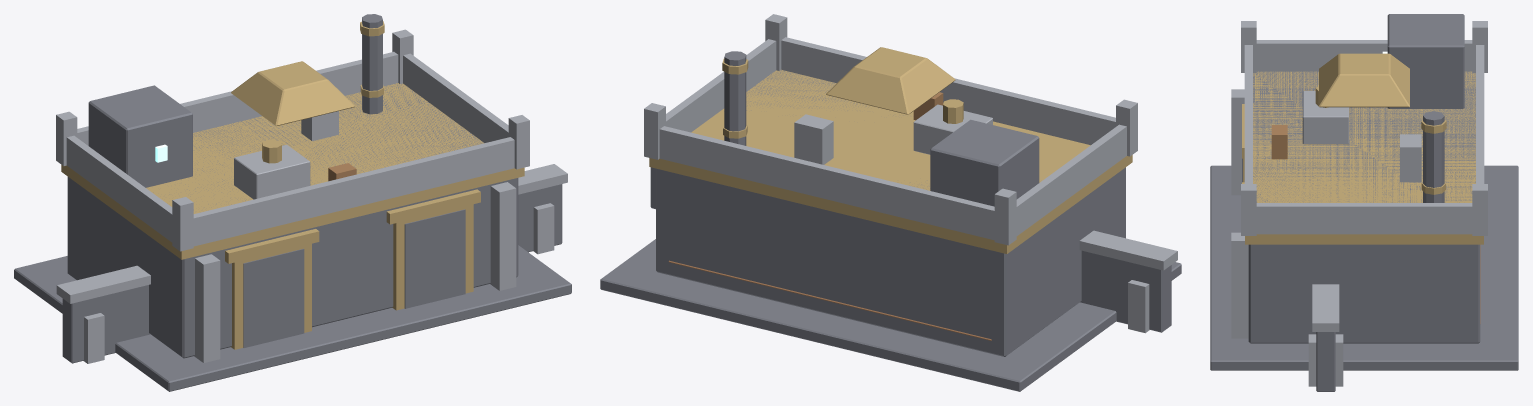
Rendered from gearforge_barracks.glb.
3 renders of one model, left to right at view 1: azimuth 30°, elevation 25°; view 2: azimuth 150°, elevation 25°; view 3: azimuth 270°, elevation 25°, orthographic. The views are drawn at different scales.
Visible parts, largest first — view 1: gearforge_barracks_dark_iron_lod0, gearforge_barracks_steel_lod0, gearforge_barracks_brass_lod0; view 2: gearforge_barracks_dark_iron_lod0, gearforge_barracks_steel_lod0, gearforge_barracks_brass_lod0, gearforge_barracks_copper_lod0; view 3: gearforge_barracks_dark_iron_lod0, gearforge_barracks_brass_lod0, gearforge_barracks_steel_lod0, gearforge_barracks_rust_lod0.
Boxes of the visible parts, box(x1,y1,x2,y2) form: gearforge_barracks_dark_iron_lod0: box(14, 14, 571, 391); gearforge_barracks_steel_lod0: box(56, 29, 567, 363); gearforge_barracks_brass_lod0: box(61, 21, 524, 349); gearforge_barracks_dark_iron_lod0: box(600, 51, 1181, 391); gearforge_barracks_steel_lod0: box(644, 14, 1177, 333); gearforge_barracks_brass_lod0: box(649, 47, 1132, 253); gearforge_barracks_copper_lod0: box(668, 260, 991, 340); gearforge_barracks_dark_iron_lod0: box(1210, 14, 1518, 391); gearforge_barracks_brass_lod0: box(1242, 53, 1483, 244); gearforge_barracks_steel_lod0: box(1231, 21, 1487, 386); gearforge_barracks_rust_lod0: box(1271, 125, 1287, 159).
Size of the model in its own units: 14.8 by 6.1 by 8.
